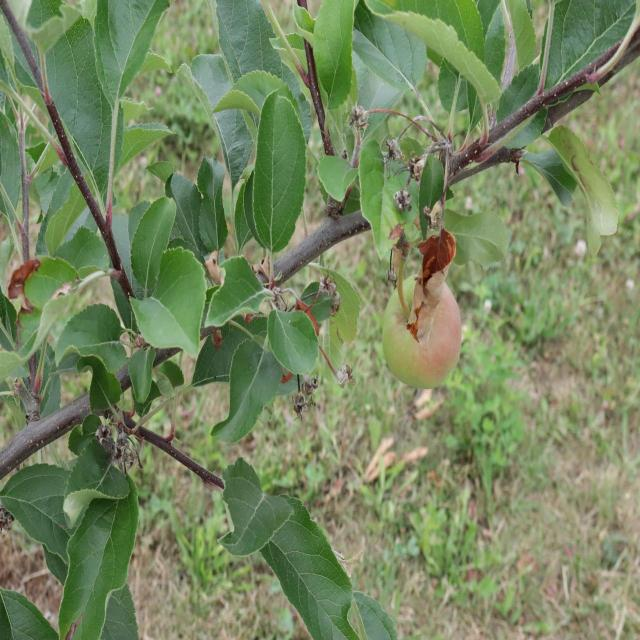-FireBlight-: (391, 182, 452, 350)
